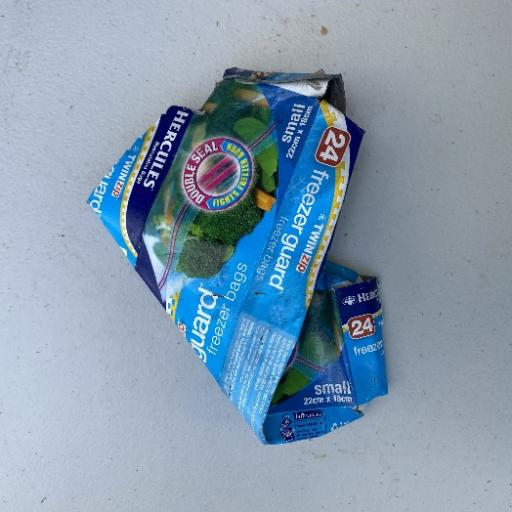Cardboard: (85, 68, 389, 446)
